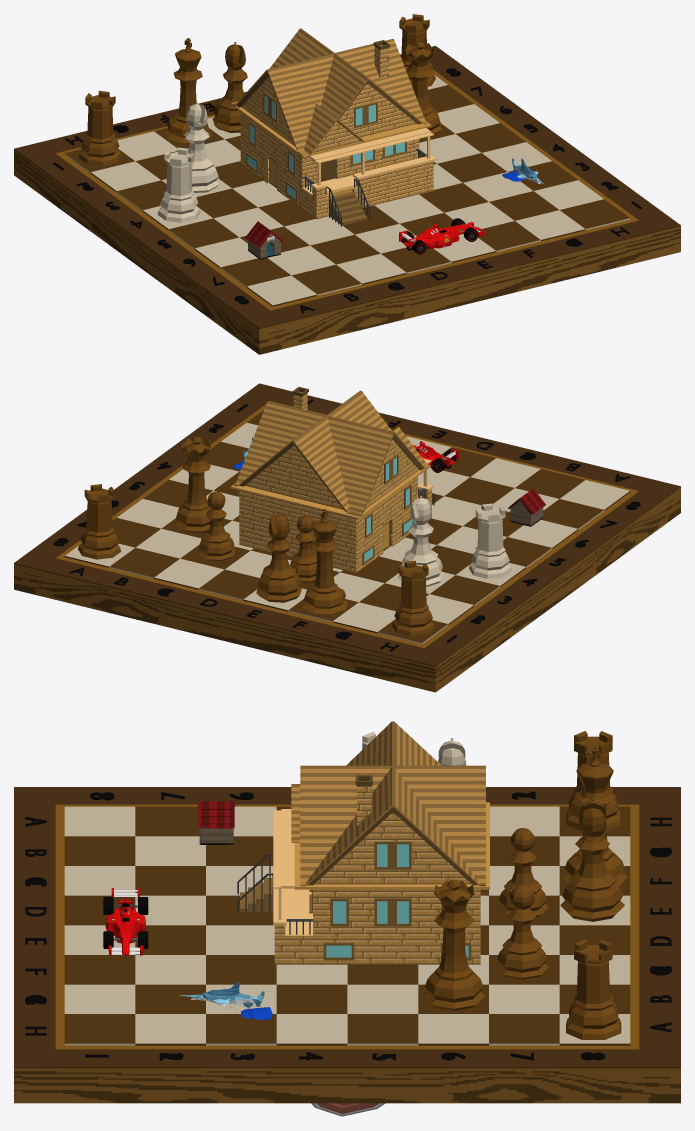
The picture shows the model from 3 angles, top to bottom: view 1: azimuth 30°, elevation 25°; view 2: azimuth 150°, elevation 25°; view 3: azimuth 270°, elevation 25°; orthographic projection. The views are drawn at different scales.
Visible parts, largest first — view 1: Cube.002, Cube.508, VEHICLES_FORMULA_1, OBJRANDOM_DOGHOUSE; view 2: Cube.002, Cube.508, OBJRANDOM_DOGHOUSE, VEHICLES_FORMULA_1; view 3: Cube.002, Cube.508, VEHICLES_FORMULA_1, OBJRANDOM_DOGHOUSE, ANIMAL_PEZ_ESPADA, UNDERGROUND_TREASURE.
Boxes of the visible parts, x1=… form: Cube.002: x1=14, y1=14, x2=680, y2=354; Cube.508: x1=231, y1=28, x2=436, y2=226; VEHICLES_FORMULA_1: x1=399, y1=218, x2=485, y2=254; OBJRANDOM_DOGHOUSE: x1=245, y1=221, x2=283, y2=259; Cube.002: x1=14, y1=383, x2=680, y2=692; Cube.508: x1=230, y1=387, x2=434, y2=572; OBJRANDOM_DOGHOUSE: x1=507, y1=488, x2=545, y2=526; VEHICLES_FORMULA_1: x1=414, y1=441, x2=458, y2=472; Cube.002: x1=14, y1=731, x2=680, y2=1103; Cube.508: x1=237, y1=721, x2=489, y2=964; VEHICLES_FORMULA_1: x1=103, y1=888, x2=148, y2=955; OBJRANDOM_DOGHOUSE: x1=198, y1=801, x2=234, y2=844; ANIMAL_PEZ_ESPADA: x1=179, y1=982, x2=272, y2=1019; UNDERGROUND_TREASURE: x1=311, y1=1103, x2=385, y2=1116.
Size of the model in its own units: 3981 by 2201 by 4012.
46 materials, 3 textured.
